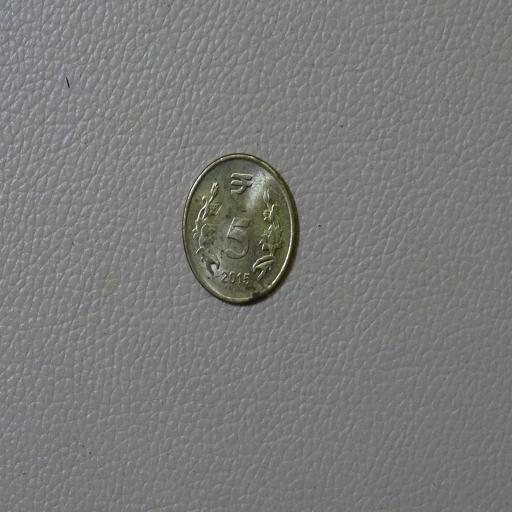rupee5: (181, 152, 300, 303)
